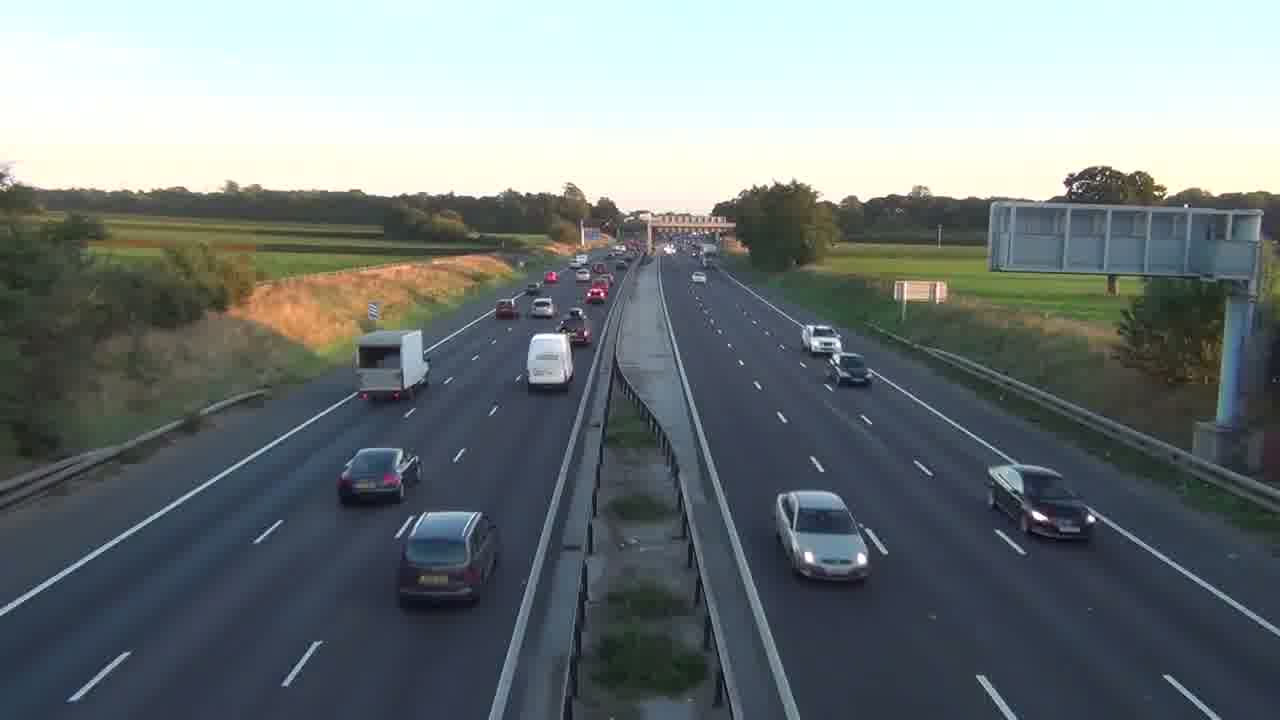car: (393, 509, 502, 606), (774, 489, 872, 583), (986, 462, 1099, 542), (336, 446, 421, 505), (826, 351, 872, 388), (801, 323, 843, 357), (495, 299, 518, 320)
truck: (352, 329, 430, 402), (525, 332, 576, 392)
